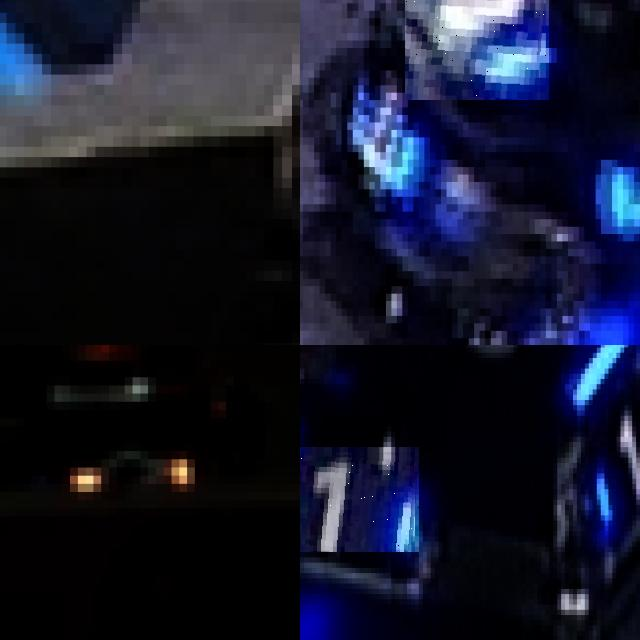B1: (300, 447, 419, 552)
B4: (319, 63, 446, 226), (405, 0, 548, 100), (584, 111, 640, 260)
